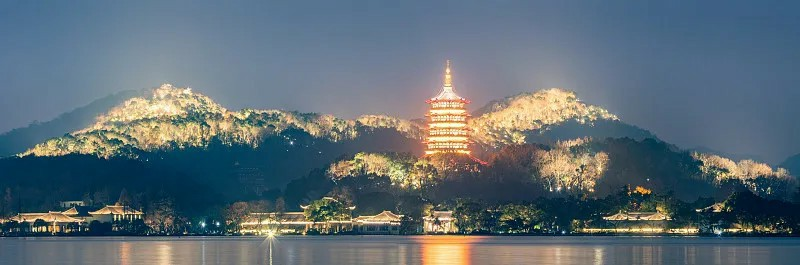Leifeng: (425, 60, 471, 158)
